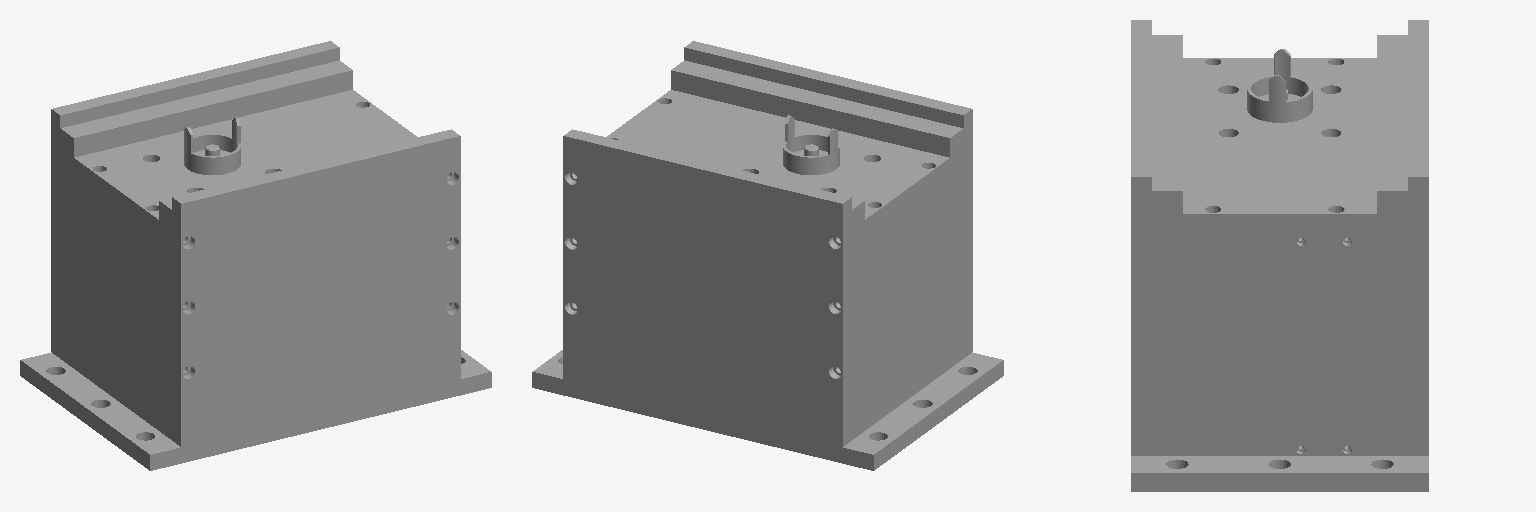
The robot description file, URDF, robot "고정장치":
<?xml version="1.0" ?>
<robot name="고정장치">

<material name="silver">
  <color rgba="0.700 0.700 0.700 1.000"/>
</material>

<link name="base_link">
  <inertial>
    <origin xyz="-0.10999999999999556 0.07251121264321245 0.004996333843608021" rpy="0 0 0"/>
    <mass value="2.446873660836993"/>
    <inertia ixx="0.004289" iyy="0.00967" izz="0.013918" ixy="0.0" iyz="0.0" ixz="-0.0"/>
  </inertial>
  <visual>
    <origin xyz="0 0 0" rpy="0 0 0"/>
    <geometry>
      <mesh filename="../meshes/base_link.stl" scale="0.001 0.001 0.001"/>
    </geometry>
    <material name="silver"/>
  </visual>
  <collision>
    <origin xyz="0 0 0" rpy="0 0 0"/>
    <geometry>
      <mesh filename="../meshes/base_link.stl" scale="0.001 0.001 0.001"/>
    </geometry>
  </collision>
</link>

<link name="Servo1_1">
  <inertial>
    <origin xyz="3.4916514124461173e-14 8.487655023259322e-14 0.0005999999999809491" rpy="0 0 0"/>
    <mass value="0.006806278705239594"/>
    <inertia ixx="1e-07" iyy="1e-07" izz="1e-07" ixy="0.0" iyz="0.0" ixz="0.0"/>
  </inertial>
  <visual>
    <origin xyz="0.138 -0.0725 -0.0875" rpy="0 0 0"/>
    <geometry>
      <mesh filename="../meshes/Servo1_1.stl" scale="0.001 0.001 0.001"/>
    </geometry>
    <material name="silver"/>
  </visual>
  <collision>
    <origin xyz="0.138 -0.0725 -0.0875" rpy="0 0 0"/>
    <geometry>
      <mesh filename="../meshes/Servo1_1.stl" scale="0.001 0.001 0.001"/>
    </geometry>
  </collision>
</link>

<link name="Servo2_1">
  <inertial>
    <origin xyz="-0.0015816004302571796 5.898059818321144e-15 0.015322738889781397" rpy="0 0 0"/>
    <mass value="0.0040481964198345426"/>
    <inertia ixx="1e-07" iyy="1e-07" izz="1e-07" ixy="0.0" iyz="-0.0" ixz="0.0"/>
  </inertial>
  <visual>
    <origin xyz="0.171 -0.0677 -0.0405" rpy="0 0 0"/>
    <geometry>
      <mesh filename="../meshes/Servo2_1.stl" scale="0.001 0.001 0.001"/>
    </geometry>
    <material name="silver"/>
  </visual>
  <collision>
    <origin xyz="0.171 -0.0677 -0.0405" rpy="0 0 0"/>
    <geometry>
      <mesh filename="../meshes/Servo2_1.stl" scale="0.001 0.001 0.001"/>
    </geometry>
  </collision>
</link>

<link name="L1_1">
  <inertial>
    <origin xyz="0.04000000000000252 8.58346151193061e-06 0.07498762221888246" rpy="0 0 0"/>
    <mass value="2.1009849657713837"/>
    <inertia ixx="0.003963" iyy="0.009546" izz="0.005618" ixy="0.0" iyz="-0.0" ixz="-0.0"/>
  </inertial>
  <visual>
    <origin xyz="0.15 -0.005 -0.01" rpy="0 0 0"/>
    <geometry>
      <mesh filename="../meshes/L1_1.stl" scale="0.001 0.001 0.001"/>
    </geometry>
    <material name="silver"/>
  </visual>
  <collision>
    <origin xyz="0.15 -0.005 -0.01" rpy="0 0 0"/>
    <geometry>
      <mesh filename="../meshes/L1_1.stl" scale="0.001 0.001 0.001"/>
    </geometry>
  </collision>
</link>

<link name="Back_1">
  <inertial>
    <origin xyz="-6.9111383282915995e-15 0.03250878091969619 0.05998243816059264" rpy="0 0 0"/>
    <mass value="1.1692860743084308"/>
    <inertia ixx="0.002917" iyy="0.00141" izz="0.001527" ixy="-0.0" iyz="-0.0" ixz="0.0"/>
  </inertial>
  <visual>
    <origin xyz="0.195 -0.04 -0.01" rpy="0 0 0"/>
    <geometry>
      <mesh filename="../meshes/Back_1.stl" scale="0.001 0.001 0.001"/>
    </geometry>
    <material name="silver"/>
  </visual>
  <collision>
    <origin xyz="0.195 -0.04 -0.01" rpy="0 0 0"/>
    <geometry>
      <mesh filename="../meshes/Back_1.stl" scale="0.001 0.001 0.001"/>
    </geometry>
  </collision>
</link>

<link name="R1_1">
  <inertial>
    <origin xyz="0.039999999999991515 -8.583461500927259e-06 0.07498762221887459" rpy="0 0 0"/>
    <mass value="2.1009849657713824"/>
    <inertia ixx="0.003963" iyy="0.009546" izz="0.005618" ixy="0.0" iyz="0.0" ixz="-0.0"/>
  </inertial>
  <visual>
    <origin xyz="0.15 -0.14 -0.01" rpy="0 0 0"/>
    <geometry>
      <mesh filename="../meshes/R1_1.stl" scale="0.001 0.001 0.001"/>
    </geometry>
    <material name="silver"/>
  </visual>
  <collision>
    <origin xyz="0.15 -0.14 -0.01" rpy="0 0 0"/>
    <geometry>
      <mesh filename="../meshes/R1_1.stl" scale="0.001 0.001 0.001"/>
    </geometry>
  </collision>
</link>

<link name="F1_1">
  <inertial>
    <origin xyz="-3.0749342969441096e-06 -0.02753926705472584 0.05998462950193841" rpy="0 0 0"/>
    <mass value="1.1666837707077449"/>
    <inertia ixx="0.002907" iyy="0.001401" izz="0.001525" ixy="0.0" iyz="-0.0" ixz="-0.0"/>
  </inertial>
  <visual>
    <origin xyz="0.025 -0.1 -0.01" rpy="0 0 0"/>
    <geometry>
      <mesh filename="../meshes/F1_1.stl" scale="0.001 0.001 0.001"/>
    </geometry>
    <material name="silver"/>
  </visual>
  <collision>
    <origin xyz="0.025 -0.1 -0.01" rpy="0 0 0"/>
    <geometry>
      <mesh filename="../meshes/F1_1.stl" scale="0.001 0.001 0.001"/>
    </geometry>
  </collision>
</link>

<link name="MotorDriver_1">
  <inertial>
    <origin xyz="-0.011239303650356684 0.002488130276015868 -0.05852996345426442" rpy="0 0 0"/>
    <mass value="0.7210496546217889"/>
    <inertia ixx="0.001293" iyy="0.000908" izz="0.000488" ixy="6e-06" iyz="-1.9e-05" ixz="-4e-06"/>
  </inertial>
  <visual>
    <origin xyz="0.03 -0.09405 -0.12675" rpy="0 0 0"/>
    <geometry>
      <mesh filename="../meshes/MotorDriver_1.stl" scale="0.001 0.001 0.001"/>
    </geometry>
    <material name="silver"/>
  </visual>
  <collision>
    <origin xyz="0.03 -0.09405 -0.12675" rpy="0 0 0"/>
    <geometry>
      <mesh filename="../meshes/MotorDriver_1.stl" scale="0.001 0.001 0.001"/>
    </geometry>
  </collision>
</link>

<link name="T1_1">
  <inertial>
    <origin xyz="-0.08429334830713939 -0.027487552999684514 0.007533335543486008" rpy="0 0 0"/>
    <mass value="2.204219544587429"/>
    <inertia ixx="0.003881" iyy="0.006044" izz="0.009789" ixy="0.0" iyz="0.0" ixz="4e-06"/>
  </inertial>
  <visual>
    <origin xyz="0.025 -0.1 -0.13" rpy="0 0 0"/>
    <geometry>
      <mesh filename="../meshes/T1_1.stl" scale="0.001 0.001 0.001"/>
    </geometry>
    <material name="silver"/>
  </visual>
  <collision>
    <origin xyz="0.025 -0.1 -0.13" rpy="0 0 0"/>
    <geometry>
      <mesh filename="../meshes/T1_1.stl" scale="0.001 0.001 0.001"/>
    </geometry>
  </collision>
</link>

<link name="ServoShaft_1">
  <inertial>
    <origin xyz="-7.584667154333924e-05 1.9664565626562047e-05 0.009584209226361301" rpy="0 0 0"/>
    <mass value="0.007434495823643457"/>
    <inertia ixx="1e-07" iyy="1e-07" izz="1e-07" ixy="-0.0" iyz="-0.0" ixz="0.0"/>
  </inertial>
  <visual>
    <origin xyz="0.138 -0.0725 -0.132" rpy="0 0 0"/>
    <geometry>
      <mesh filename="../meshes/ServoShaft_1.stl" scale="0.001 0.001 0.001"/>
    </geometry>
    <material name="silver"/>
  </visual>
  <collision>
    <origin xyz="0.138 -0.0725 -0.132" rpy="0 0 0"/>
    <geometry>
      <mesh filename="../meshes/ServoShaft_1.stl" scale="0.001 0.001 0.001"/>
    </geometry>
  </collision>
</link>

<link name="Jig_1">
  <inertial>
    <origin xyz="2.1635561678140514e-05 1.1102230246251565e-14 0.005486282955048355" rpy="0 0 0"/>
    <mass value="0.03163742025368081"/>
    <inertia ixx="3e-06" iyy="4e-06" izz="5e-06" ixy="0.0" iyz="0.0" ixz="0.0"/>
  </inertial>
  <visual>
    <origin xyz="0.138 -0.0725 -0.1403" rpy="0 0 0"/>
    <geometry>
      <mesh filename="../meshes/Jig_1.stl" scale="0.001 0.001 0.001"/>
    </geometry>
    <material name="silver"/>
  </visual>
  <collision>
    <origin xyz="0.138 -0.0725 -0.1403" rpy="0 0 0"/>
    <geometry>
      <mesh filename="../meshes/Jig_1.stl" scale="0.001 0.001 0.001"/>
    </geometry>
  </collision>
</link>

<link name="Servo3_1">
  <inertial>
    <origin xyz="-0.0008126082473343121 -5.7988780331239e-05 -0.048107644599258814" rpy="0 0 0"/>
    <mass value="1.2771847015112354"/>
    <inertia ixx="0.001633" iyy="0.001669" izz="0.000787" ixy="2e-06" iyz="-1e-06" ixz="-4.4e-05"/>
  </inertial>
  <visual>
    <origin xyz="0.138 -0.0725 -0.132" rpy="0 0 0"/>
    <geometry>
      <mesh filename="../meshes/Servo3_1.stl" scale="0.001 0.001 0.001"/>
    </geometry>
    <material name="silver"/>
  </visual>
  <collision>
    <origin xyz="0.138 -0.0725 -0.132" rpy="0 0 0"/>
    <geometry>
      <mesh filename="../meshes/Servo3_1.stl" scale="0.001 0.001 0.001"/>
    </geometry>
  </collision>
</link>

<joint name="Servo3_Servo1" type="fixed">
  <origin xyz="0.0 0.0 -0.0445" rpy="0 0 0"/>
  <parent link="Servo3_1"/>
  <child link="Servo1_1"/>
</joint>

<joint name="Servo3_Servo2" type="fixed">
  <origin xyz="-0.033 -0.0048 -0.0915" rpy="0 0 0"/>
  <parent link="Servo3_1"/>
  <child link="Servo2_1"/>
</joint>

<joint name="Bottom_L1" type="fixed">
  <origin xyz="-0.15 0.005 0.01" rpy="0 0 0"/>
  <parent link="base_link"/>
  <child link="L1_1"/>
</joint>

<joint name="Bottom_Back" type="fixed">
  <origin xyz="-0.195 0.04 0.01" rpy="0 0 0"/>
  <parent link="base_link"/>
  <child link="Back_1"/>
</joint>

<joint name="Bottom_R1" type="fixed">
  <origin xyz="-0.15 0.14 0.01" rpy="0 0 0"/>
  <parent link="base_link"/>
  <child link="R1_1"/>
</joint>

<joint name="Bottom_F1" type="fixed">
  <origin xyz="-0.025 0.1 0.01" rpy="0 0 0"/>
  <parent link="base_link"/>
  <child link="F1_1"/>
</joint>

<joint name="F1_MotorDriver" type="fixed">
  <origin xyz="-0.005 -0.00595 0.11675" rpy="0 0 0"/>
  <parent link="F1_1"/>
  <child link="MotorDriver_1"/>
</joint>

<joint name="F1_T1" type="fixed">
  <origin xyz="0.0 0.0 0.12" rpy="0 0 0"/>
  <parent link="F1_1"/>
  <child link="T1_1"/>
</joint>

<joint name="Servo3_ServoShaft" type="continuous">
  <origin xyz="0.0 0.0 0.0" rpy="0 0 0"/>
  <parent link="Servo3_1"/>
  <child link="ServoShaft_1"/>
  <axis xyz="-0.0 -0.0 1.0"/>
</joint>

<joint name="ServoShaft_Jig" type="fixed">
  <origin xyz="0.0 0.0 0.0083" rpy="0 0 0"/>
  <parent link="ServoShaft_1"/>
  <child link="Jig_1"/>
</joint>

<joint name="T1_Servo3" type="fixed">
  <origin xyz="-0.113 -0.0275 0.002" rpy="0 0 0"/>
  <parent link="T1_1"/>
  <child link="Servo3_1"/>
</joint>

</robot>

--- What the picture shows (computed from the rendered views, not written in the file) ---
Views: 3 orthographic renders of the robot side by side, from view 1: azimuth 30°, elevation 25°; view 2: azimuth 150°, elevation 25°; view 3: azimuth 270°, elevation 25°.
Robot: 고정장치 — 12 links, 11 joints (1 continuous, 10 fixed); root link base_link; default pose: every joint at zero.
Links seen in each view (by area): view 1: L1_1, T1_1, Back_1, base_link, R1_1, Jig_1; view 2: R1_1, T1_1, Back_1, base_link, L1_1, Jig_1; view 3: F1_1, T1_1, base_link, L1_1, R1_1, Jig_1.
Link boxes in pixels (x1,y1,x2,y2): L1_1: (172, 129, 460, 446); T1_1: (60, 60, 421, 244); Back_1: (60, 164, 171, 439); base_link: (20, 350, 491, 470); R1_1: (51, 41, 339, 357); Jig_1: (184, 117, 240, 174); R1_1: (563, 129, 851, 446); T1_1: (602, 60, 963, 244); Back_1: (852, 164, 963, 439); base_link: (532, 350, 1003, 470); L1_1: (684, 41, 972, 357); Jig_1: (783, 115, 839, 174); F1_1: (1152, 232, 1407, 455); T1_1: (1152, 35, 1407, 231); base_link: (1131, 456, 1428, 491); L1_1: (1131, 20, 1151, 455); R1_1: (1408, 20, 1428, 455); Jig_1: (1247, 49, 1312, 122).
Size in the robot's own frame: 0.22 by 0.145 by 0.1663 metres.
Meshes: 12 distinct files referenced, 12 mesh visuals loaded (12 binary STL).
